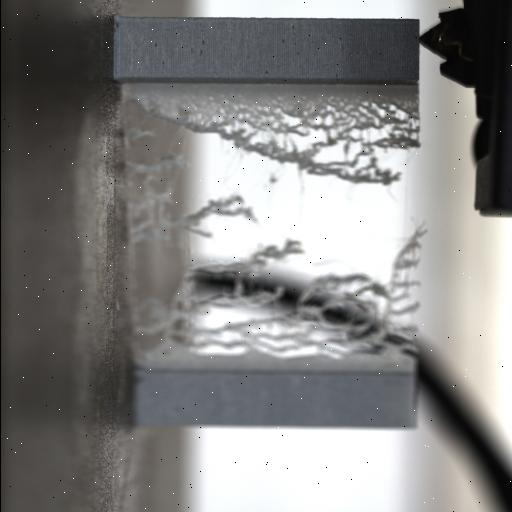stringing: (171, 224, 425, 362), (126, 89, 418, 187)
